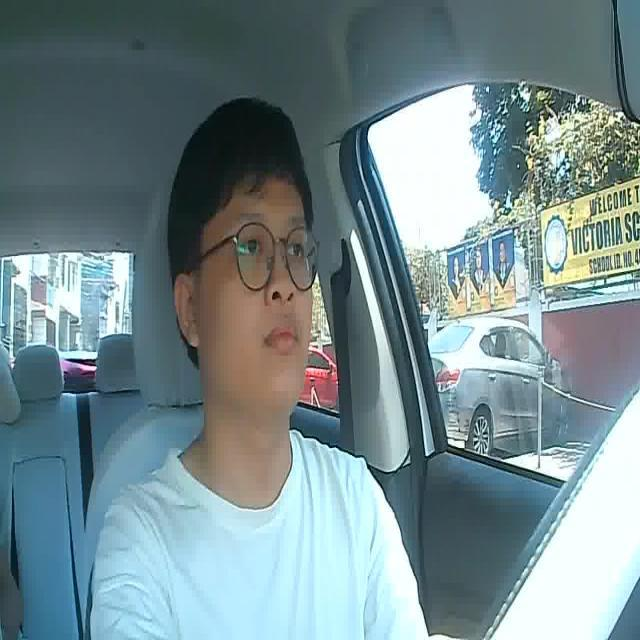Attentive: (161, 92, 337, 406)
Eye-Open: (238, 235, 263, 258), (283, 237, 305, 259)
Normal: (263, 320, 302, 356)
